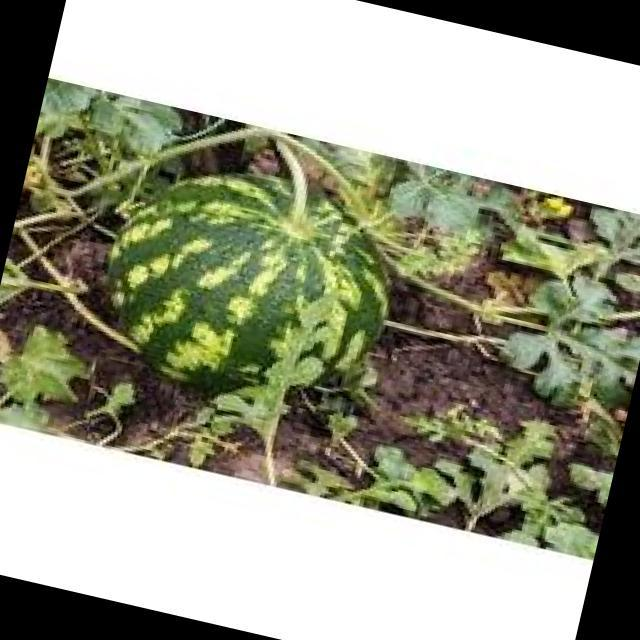watermelon: (108, 176, 385, 395)
